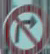Don't turn right: (2, 4, 45, 53)
